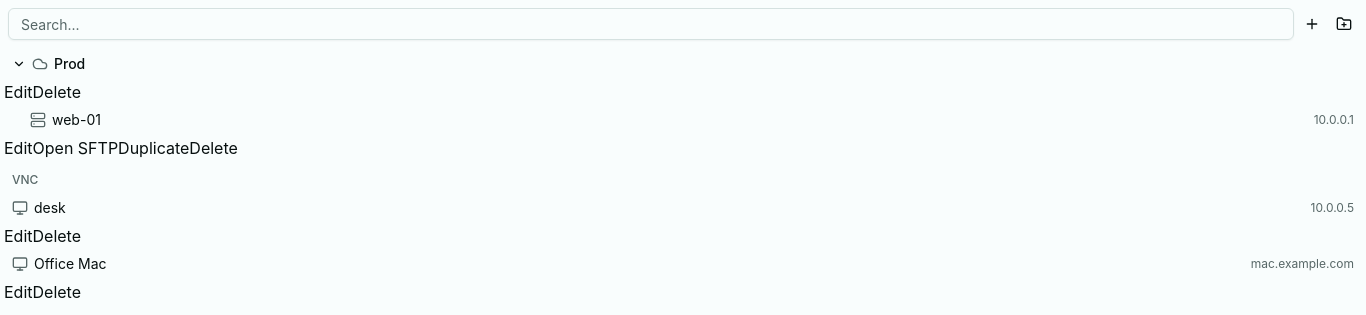
Scenario: search filters VNC profiles by host
Type "10.0" into the field with placeholder "Search..." at (651, 24), box [8,8,1294,40]
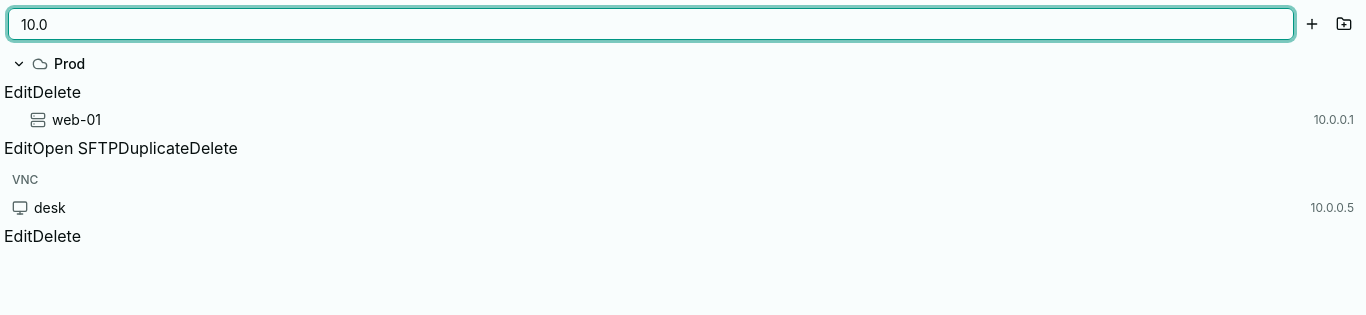
Expected: the text "desk" is shown, [34,198,66,218]
Now the button "Office Mac" is gone
